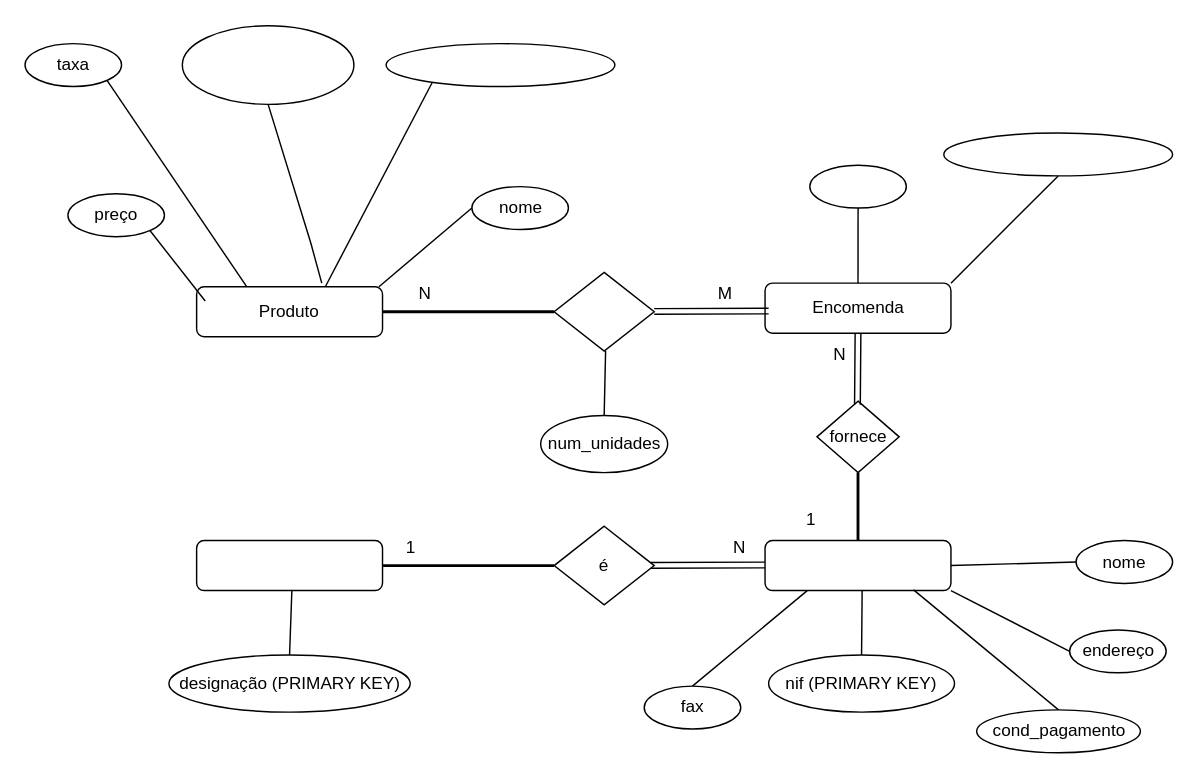
This 1198x778 diagram has some shape labels left out. Here are the shapes that lost their labels. From the top down, the box of each, then its label:
(181, 24, 354, 104): num_em_armazem
(385, 42, 615, 87): Código (PRIMARY KEY)
(942, 132, 1173, 176): num (PRIMARY KEY)
(808, 164, 906, 208): data
(553, 271, 654, 351): Contem
(195, 539, 383, 591): Tipo Fornecedor
(764, 539, 951, 591): Fornecedor
